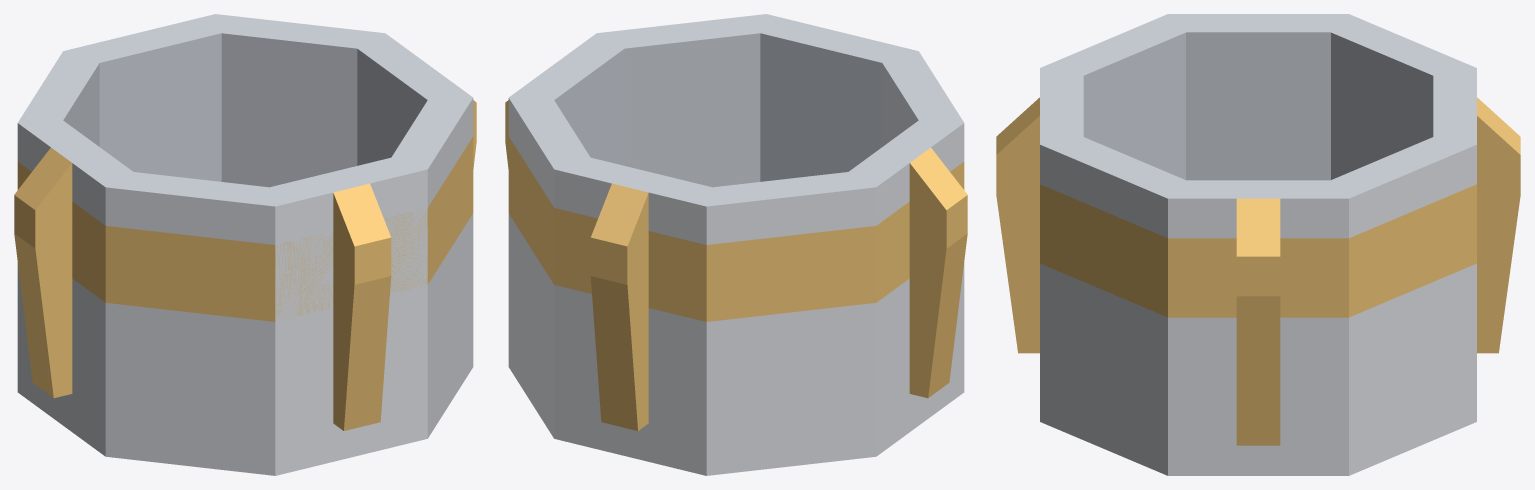
The model's file is rocket_finsB.glb.
3 renders of one model, left to right at view 1: azimuth 30°, elevation 25°; view 2: azimuth 150°, elevation 25°; view 3: azimuth 270°, elevation 25°, orthographic. The views are drawn at different scales.
Parts seen in each view (by area): view 1: rocket_finsB; view 2: rocket_finsB; view 3: rocket_finsB.
Part boxes in pixels (<box>): rocket_finsB: <box>14,14,476,475</box>; rocket_finsB: <box>505,14,967,475</box>; rocket_finsB: <box>996,14,1520,475</box>.
Bounding box in the file's own units: 1.56 × 0.91 × 1.56.
